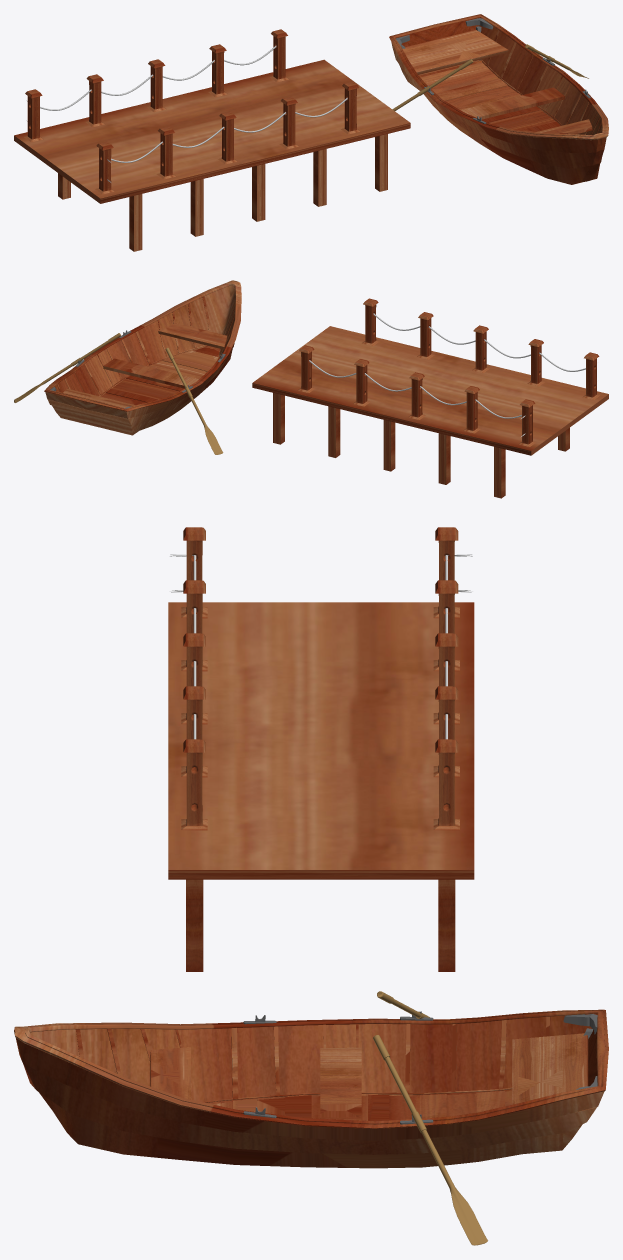
The model's file is fase-bonus.fbx.
The picture shows the model from 3 angles, top to bottom: view 1: azimuth 30°, elevation 25°; view 2: azimuth 150°, elevation 25°; view 3: azimuth 270°, elevation 25°; orthographic projection. The views are drawn at different scales.
Visible parts, largest first — view 1: woodenpier, BaseBarca, PianoFondo, PianoMetà, Object001, PianoPunta, Cylinder001; view 2: woodenpier, BaseBarca, PianoMetà, PianoPunta, Object001, Cylinder001, Cylinder001.001, PianoFondo; view 3: woodenpier, BaseBarca, PianoFondo, PianoMetà, Object001, Cylinder001.001, PianoPunta.
Part boxes in pixels (<box>): woodenpier: <box>14,29,410,251</box>; BaseBarca: <box>389,14,608,184</box>; PianoFondo: <box>402,30,508,74</box>; PianoMetà: <box>461,87,564,119</box>; Object001: <box>486,30,601,134</box>; PianoPunta: <box>534,119,592,134</box>; Cylinder001: <box>392,59,473,110</box>; woodenpier: <box>252,298,608,498</box>; BaseBarca: <box>44,280,241,435</box>; PianoMetà: <box>103,358,198,388</box>; PianoPunta: <box>158,323,227,349</box>; Object001: <box>57,296,234,394</box>; Cylinder001: <box>165,348,223,454</box>; Cylinder001.001: <box>14,333,120,402</box>; PianoFondo: <box>63,388,135,407</box>; woodenpier: <box>168,527,474,971</box>; BaseBarca: <box>14,1009,608,1168</box>; PianoFondo: <box>512,1033,588,1104</box>; PianoMetà: <box>320,1047,361,1120</box>; Object001: <box>76,1016,550,1099</box>; Cylinder001.001: <box>373,1035,487,1245</box>; PianoPunta: <box>150,1047,190,1099</box>.
Bounding box in the file's own units: 188 × 41.07 × 95.14.
